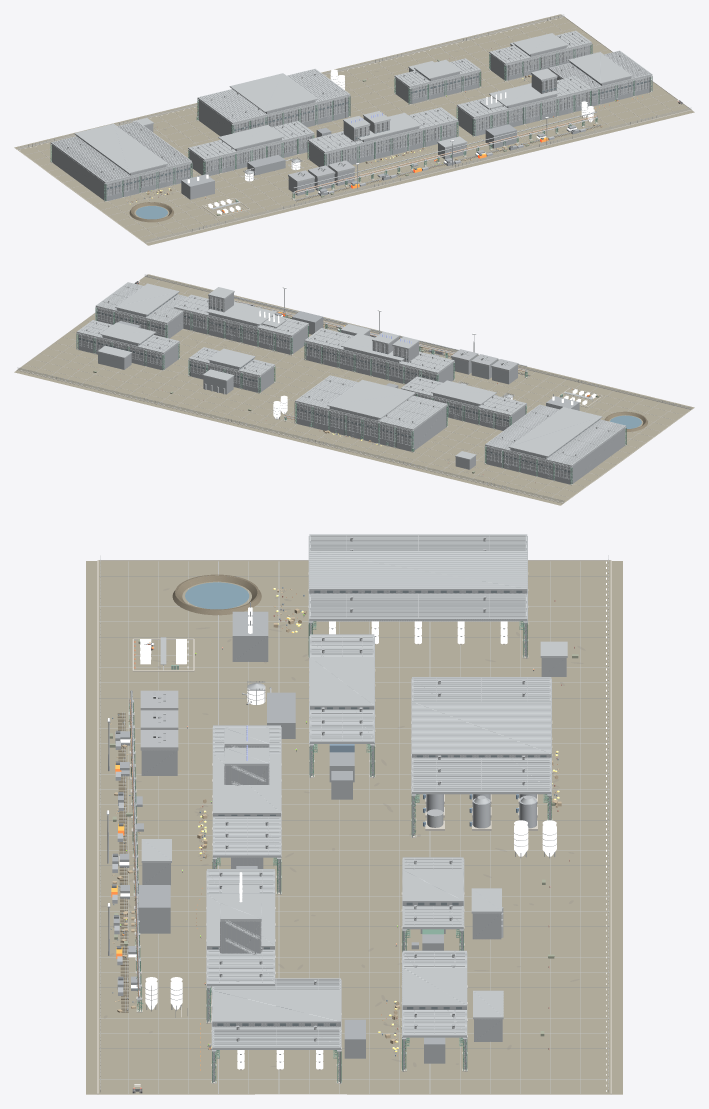
Rendered from annealingmill.glb.
3 renders of one model, top to bottom at view 1: azimuth 30°, elevation 25°; view 2: azimuth 150°, elevation 25°; view 3: azimuth 270°, elevation 25°, orthographic. The views are drawn at different scales.
Parts seen in each view (by area): view 1: structure/mat_8b8166_42, structure/roof, structure/clad, structure/seam, galv/galv, structure/steelD, structure/green, fence/mesh, structure/concrete, structure/glass, structure/waste, structure/pipeM (+2 smaller); view 2: structure/mat_8b8166_42, structure/roof, structure/clad, structure/seam, galv/galv, structure/steelD, structure/green, fence/mesh, structure/concrete, structure/glass; view 3: structure/mat_8b8166_42, structure/roof, structure/seam, structure/clad, galv/galv, structure/steelD, structure/concrete, structure/waste, structure/silo, structure/green, structure/gray, structure/water (+4 smaller).
Part boxes in pixels (x1,y1,x2,y2): structure/mat_8b8166_42: [14, 14, 694, 245]; structure/roof: [50, 30, 652, 209]; structure/clad: [52, 44, 651, 200]; structure/seam: [30, 21, 678, 237]; galv/galv: [50, 32, 652, 204]; structure/steelD: [105, 61, 651, 200]; structure/green: [50, 44, 652, 201]; fence/mesh: [18, 14, 690, 242]; structure/concrete: [17, 16, 691, 243]; structure/glass: [77, 46, 650, 189]; structure/waste: [129, 125, 601, 222]; structure/pipeM: [242, 116, 597, 193]; structure/mat_8b8166_42: [14, 274, 694, 505]; structure/roof: [76, 282, 626, 466]; structure/clad: [78, 293, 625, 483]; structure/seam: [30, 281, 678, 497]; galv/galv: [76, 286, 626, 484]; structure/steelD: [77, 287, 571, 484]; structure/green: [76, 308, 626, 484]; fence/mesh: [18, 274, 691, 502]; structure/concrete: [17, 276, 691, 503]; structure/glass: [78, 294, 599, 472]; structure/mat_8b8166_42: [86, 561, 622, 1094]; structure/roof: [141, 534, 567, 1049]; structure/seam: [99, 534, 609, 1093]; structure/clad: [141, 590, 566, 1081]; galv/galv: [107, 536, 555, 1083]; structure/steelD: [106, 692, 466, 1081]; structure/concrete: [97, 560, 611, 1094]; structure/waste: [117, 574, 261, 1012]; structure/silo: [119, 607, 556, 1009]; structure/green: [129, 621, 551, 1082]; structure/gray: [112, 741, 536, 995]; structure/water: [185, 582, 249, 609].
Bounding box in the file's own units: 706 × 45.84 × 300.
Materials: 42 (3 with a texture image).
